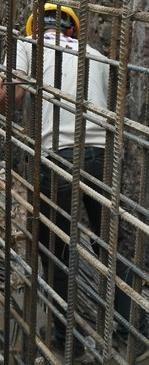boots: (39, 324, 65, 350), (0, 239, 21, 270)
hard-hat: (0, 0, 58, 52)
vest: (0, 0, 75, 237)
